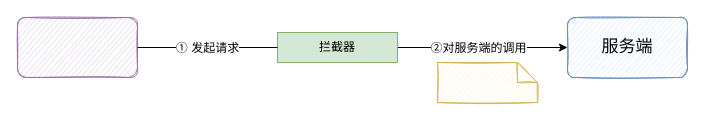
This 705x120 diagram has some shape labels left out. The shapes that lost their labels are listed below. From the top down, each one's box as (x1, y1, x2, y2) in pixels, then its label:
(16, 16, 138, 78): 客户端
(436, 62, 538, 102): 通过 ClientCall
